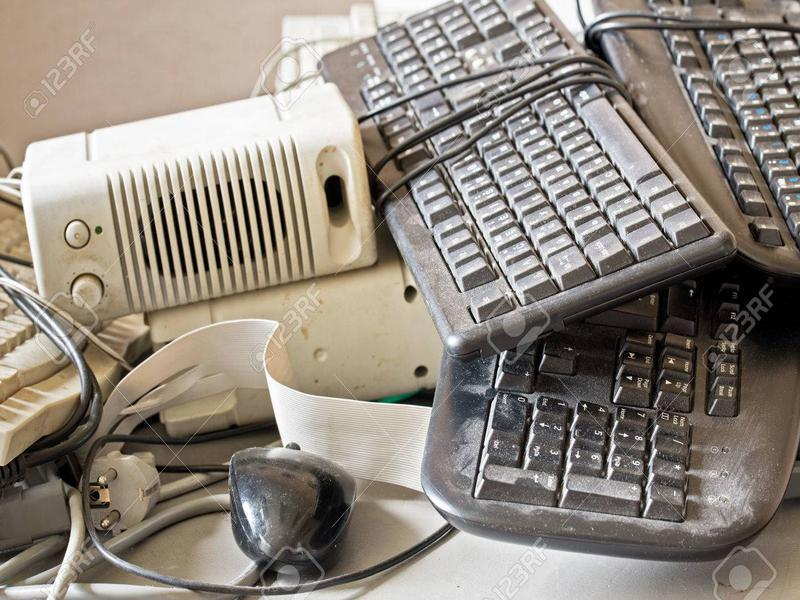keyboard: (309, 1, 740, 364), (406, 286, 800, 563)
mouse: (219, 428, 362, 575)
